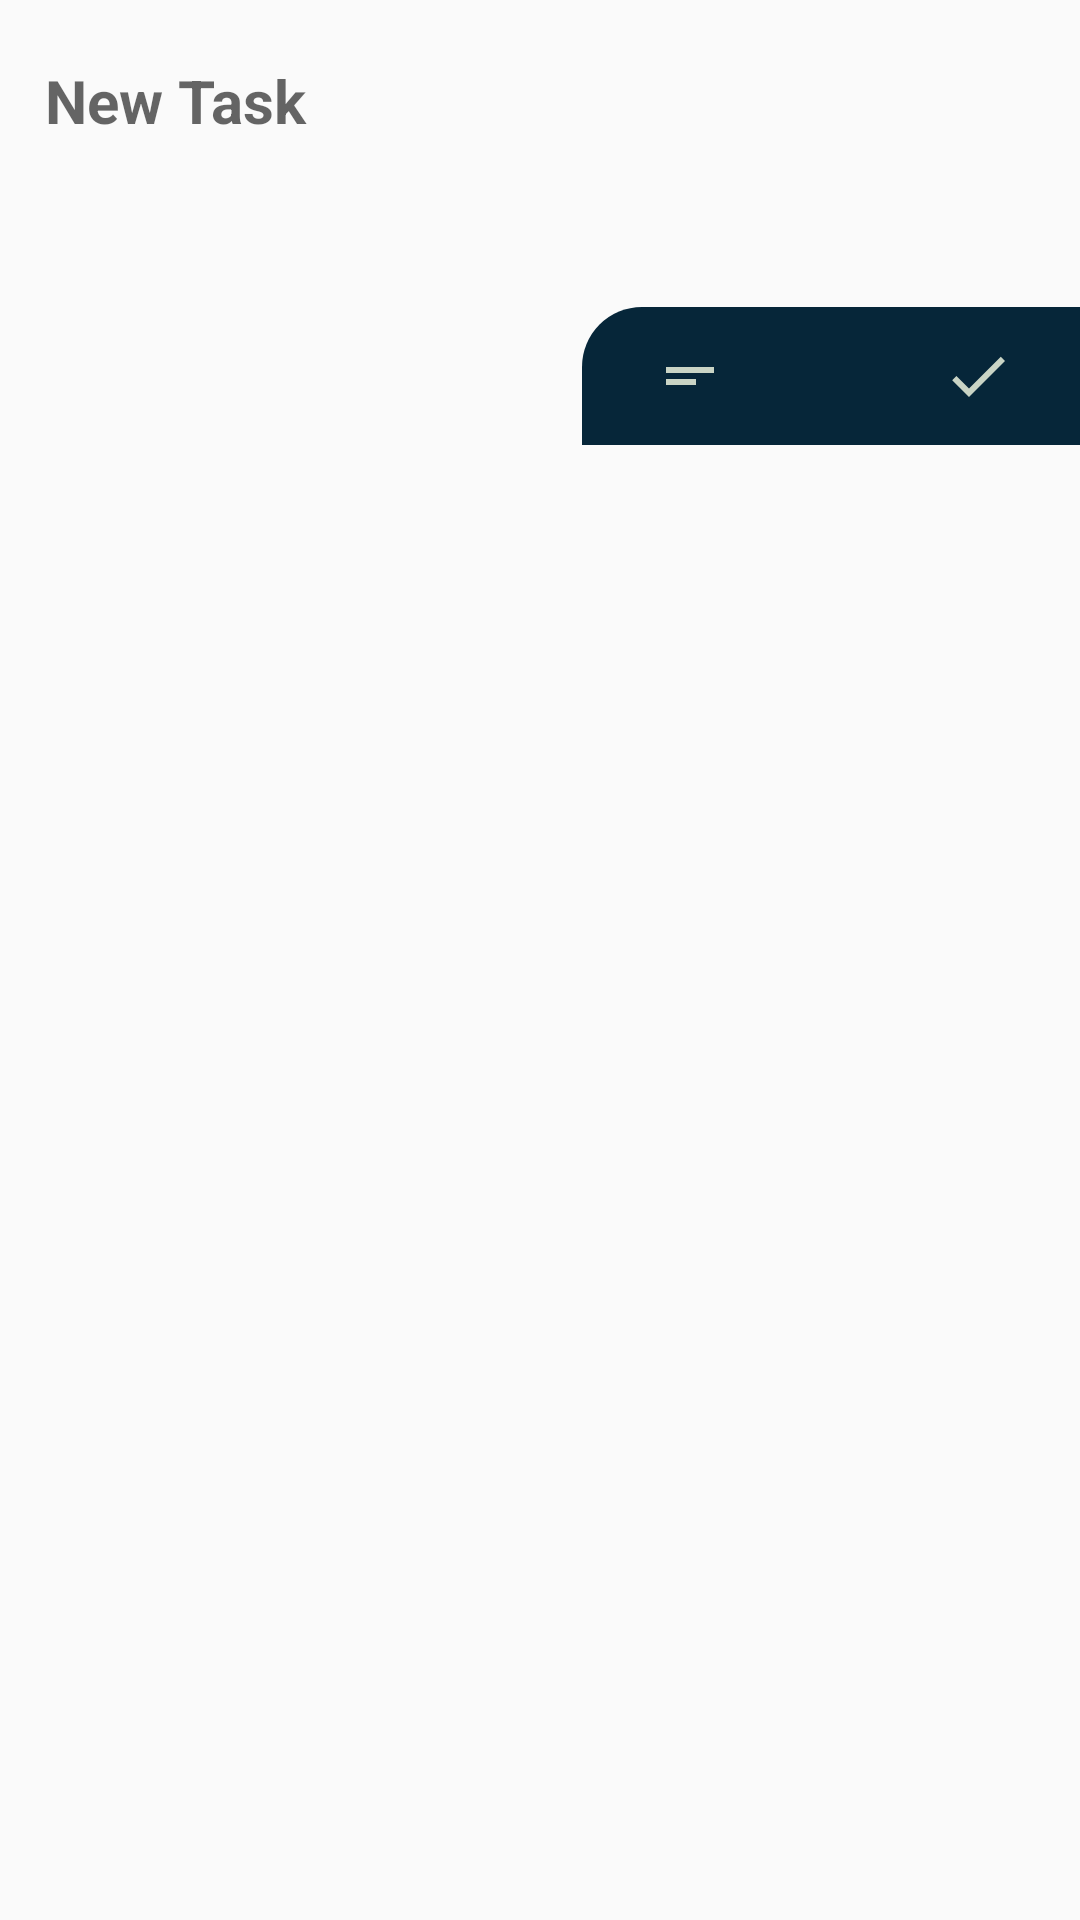

Where to tap for icons on this 1080px x 1920px app screen, as (x=x, y=y):
done veish: (x=978, y=377)
short text veish: (x=690, y=376)
